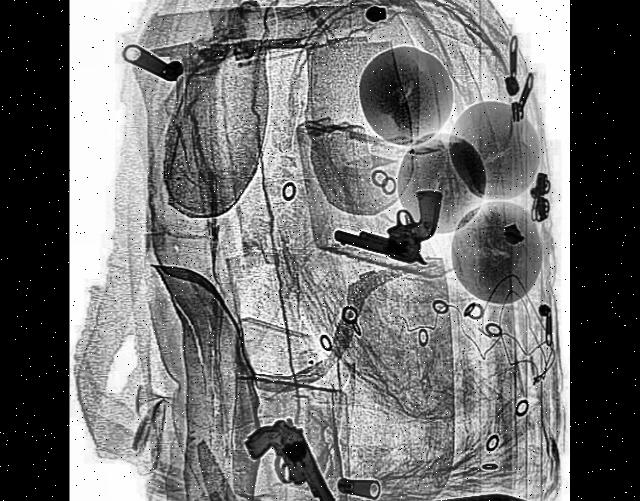Gun: (331, 166, 442, 272), (240, 399, 336, 501)
Knife: (239, 489, 544, 501)
